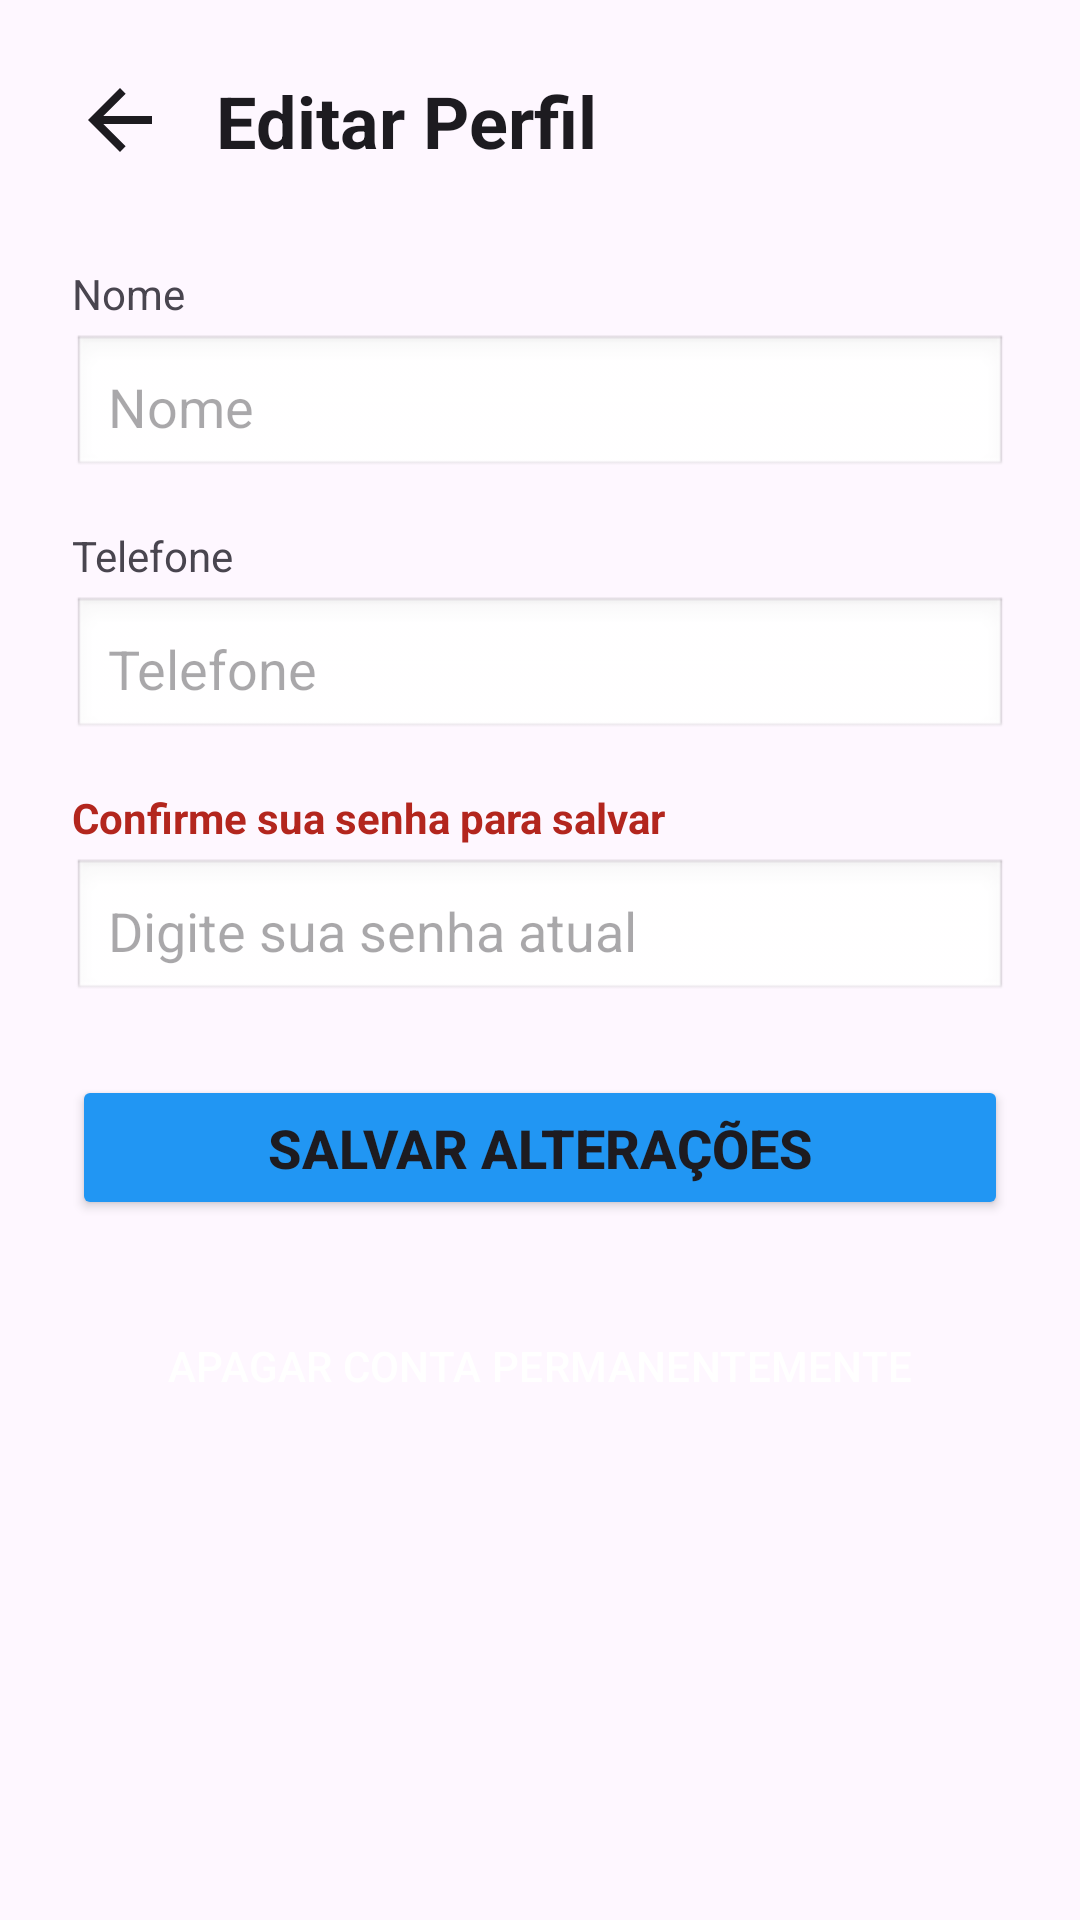

Point at icon controls on the screen. Image size 1080px×1920px, points as (x=x, y=y).
Voltar: (x=120, y=120)
